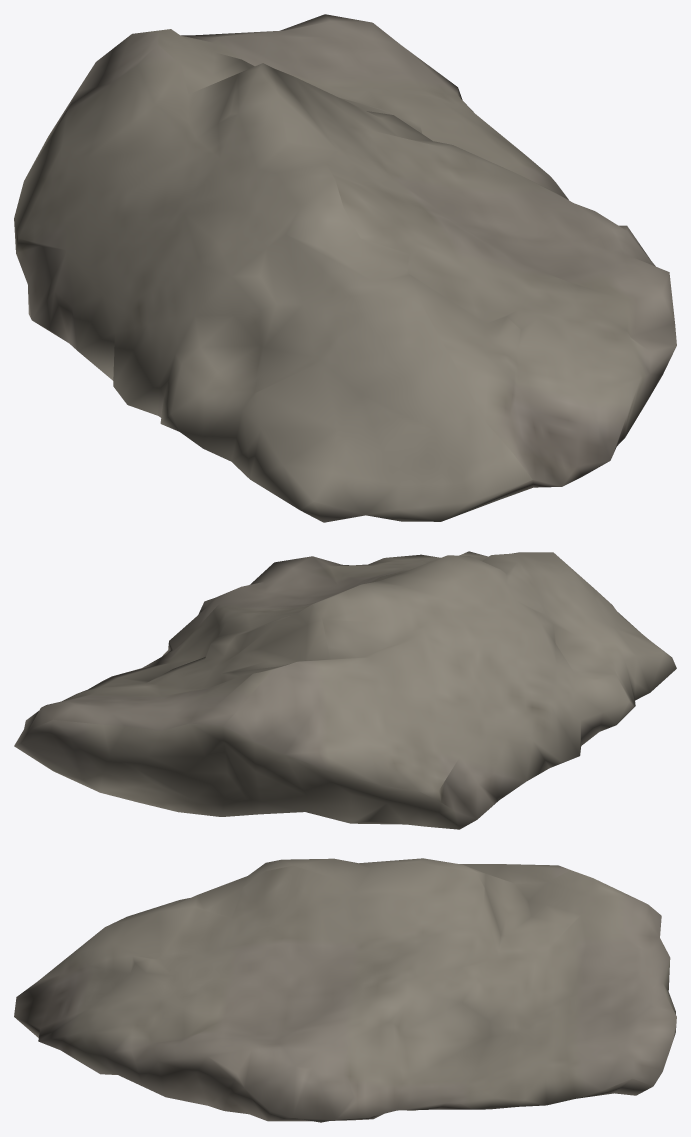
File: ph_moonrock_4.glb
3 renders of one model, top to bottom at view 1: azimuth 30°, elevation 25°; view 2: azimuth 150°, elevation 25°; view 3: azimuth 270°, elevation 25°, orthographic. The views are drawn at different scales.
Parts seen in each view (by area): view 1: ph_moonrock_4_lod1; view 2: ph_moonrock_4_lod1; view 3: ph_moonrock_4_lod1.
Boxes of the visible parts, bbox=[...] form: ph_moonrock_4_lod1: bbox=[14, 14, 676, 522]; ph_moonrock_4_lod1: bbox=[14, 551, 676, 829]; ph_moonrock_4_lod1: bbox=[14, 858, 676, 1122].
Bounding box in the file's own units: 0.1194 × 0.0533 × 0.1734.
Materials: 1 (1 with a texture image).
